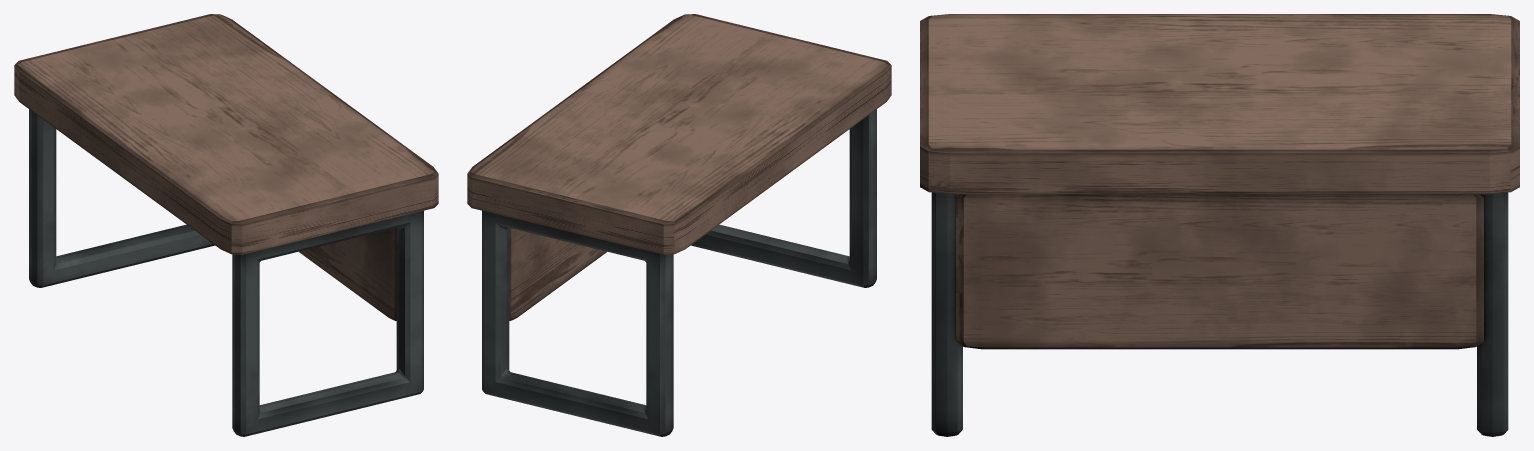
Rendered from Table.fbx.
3 views of the same model, side by side, from view 1: azimuth 30°, elevation 25°; view 2: azimuth 150°, elevation 25°; view 3: azimuth 270°, elevation 25° (orthographic). The views are drawn at different scales.
Visible parts, largest first — view 1: Cube.006, Cube.007, Cube.028; view 2: Cube.006, Cube.007, Cube.028; view 3: Cube.006, Cube.028, Cube.007.
Boxes of the visible parts, bbox=[...] form: Cube.006: bbox=[14, 14, 438, 254]; Cube.007: bbox=[29, 109, 423, 436]; Cube.028: bbox=[299, 228, 396, 320]; Cube.006: bbox=[467, 14, 891, 254]; Cube.007: bbox=[482, 109, 876, 436]; Cube.028: bbox=[509, 228, 606, 320]; Cube.006: bbox=[920, 14, 1519, 194]; Cube.028: bbox=[956, 194, 1483, 349]; Cube.007: bbox=[931, 192, 1508, 436].
Bounding box in the file's own units: 57.18 × 56.92 × 104.
1 material, 1 textured.
